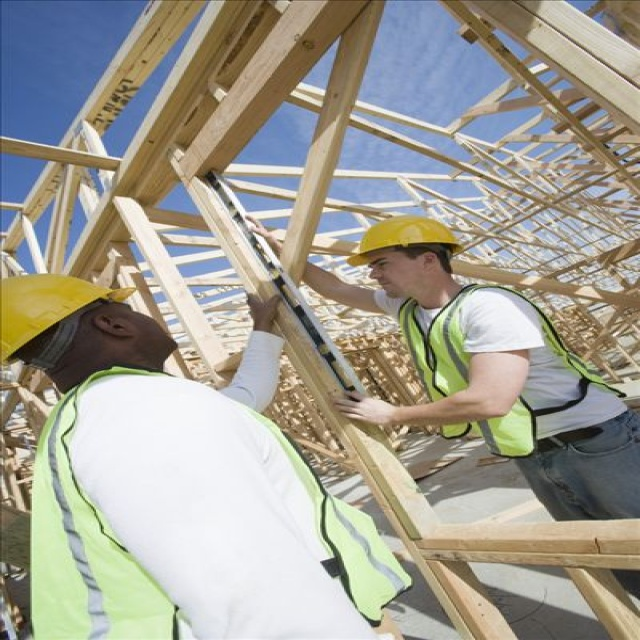Helmet: (1, 261, 190, 396), (332, 205, 473, 313)
Reflective vest: (25, 362, 415, 640), (393, 282, 627, 462)
